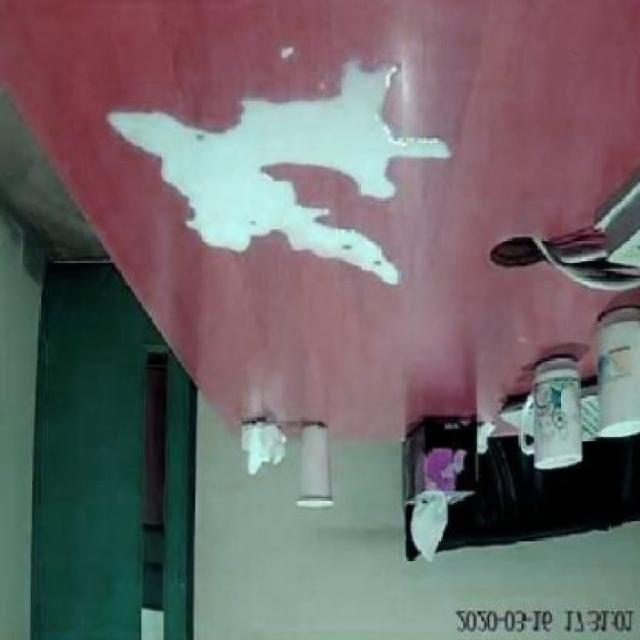spillage: (106, 58, 449, 284)
